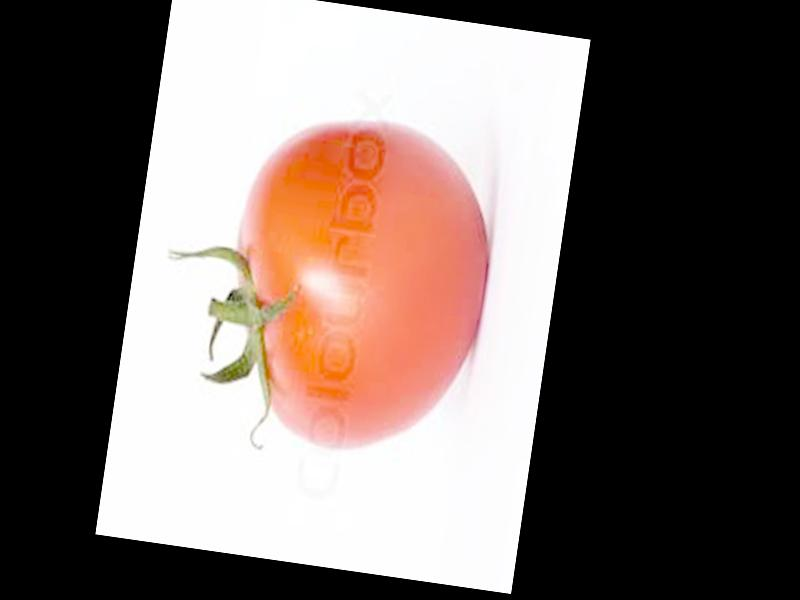Tomato: (210, 104, 503, 463)
